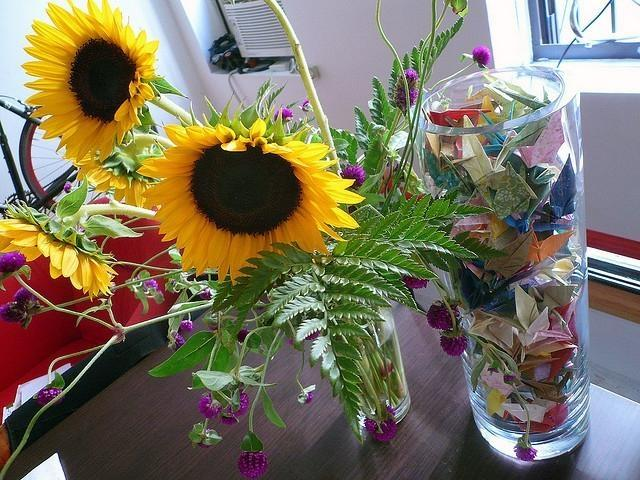bicycle: (1, 91, 73, 204)
